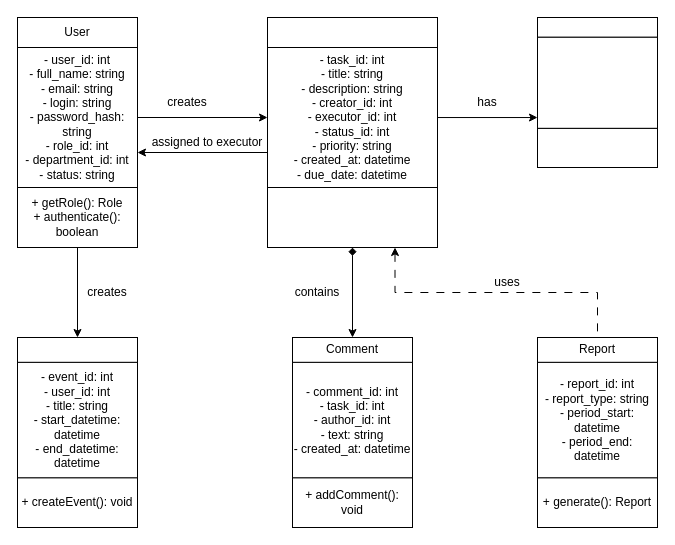
Image size: 675x545. Some labels were removed from this diagram. Here are the shapes that lost their labels. From the top down, the centre of each, then its label:
At (352,32): "Task".
At (597,26): "Status".
At (597,82): "- status_id: int - status_name: string".
At (597,147): "+ getName(): string".
At (352,217): "+ assignUser(user): void + updateStatus(status): void + setDeadline(date): void".
At (77,349): "Event".
